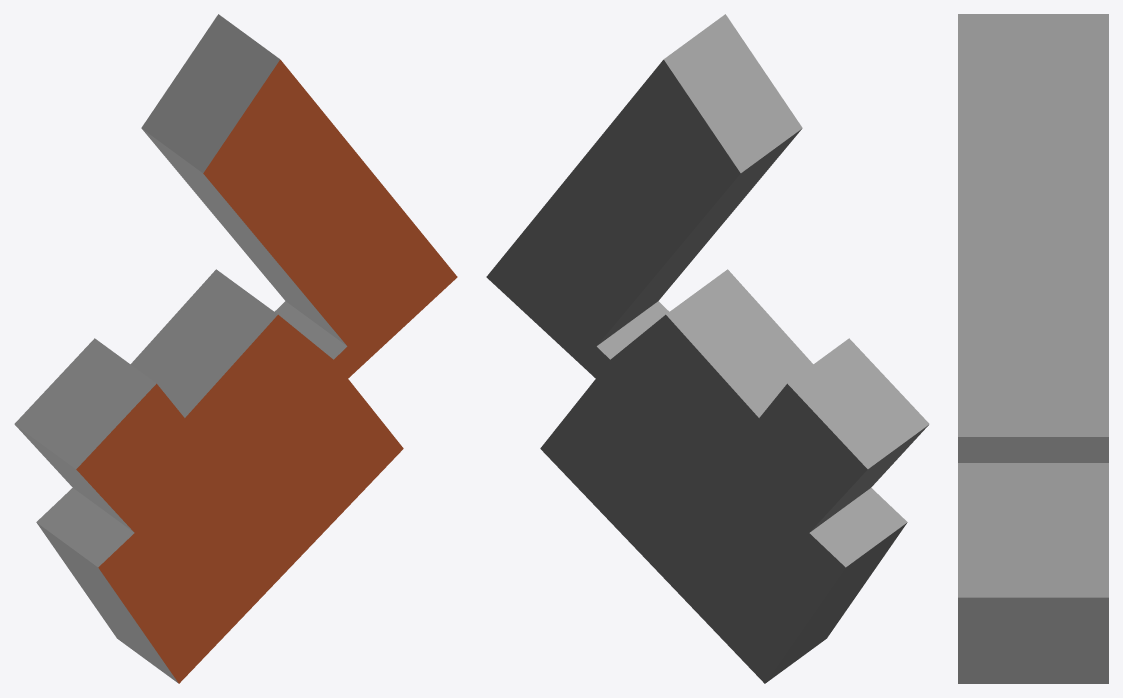
File: construction_0878_assumed_A_Casa_h6m.obj
3 views of the same model, side by side, from view 1: azimuth 30°, elevation 25°; view 2: azimuth 150°, elevation 25°; view 3: azimuth 270°, elevation 25° (orthographic). The views are drawn at different scales.
Visible parts, largest first — view 1: construction_0878_assumed_A_Casa; view 2: construction_0878_assumed_A_Casa; view 3: construction_0878_assumed_A_Casa.
Boxes of the visible parts, left/top/right/bottom form: construction_0878_assumed_A_Casa: left=14, top=14, right=457, bottom=683; construction_0878_assumed_A_Casa: left=486, top=14, right=929, bottom=683; construction_0878_assumed_A_Casa: left=958, top=14, right=1108, bottom=683.
Size of the model in its own units: 21.33 by 32.05 by 6.
